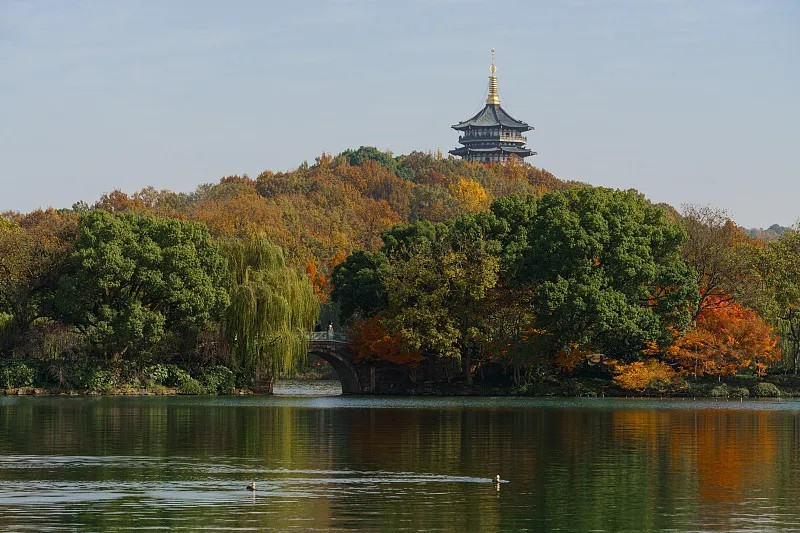Leifeng: (450, 45, 537, 167)
